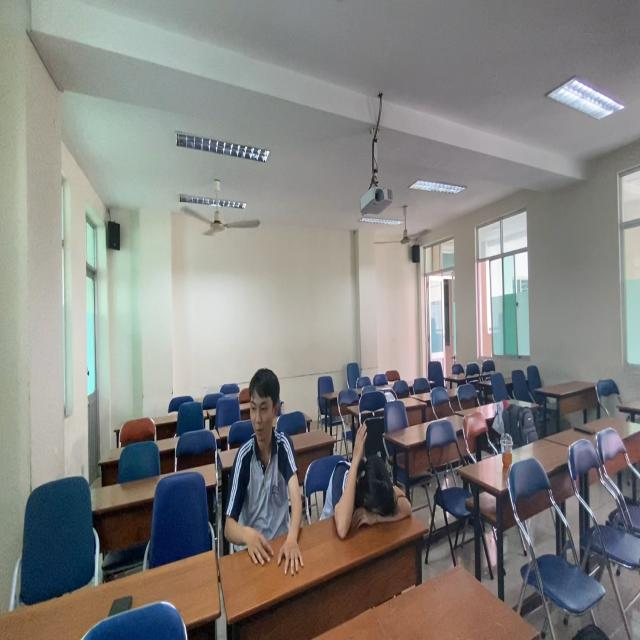raise_hand: (219, 357, 319, 622)
